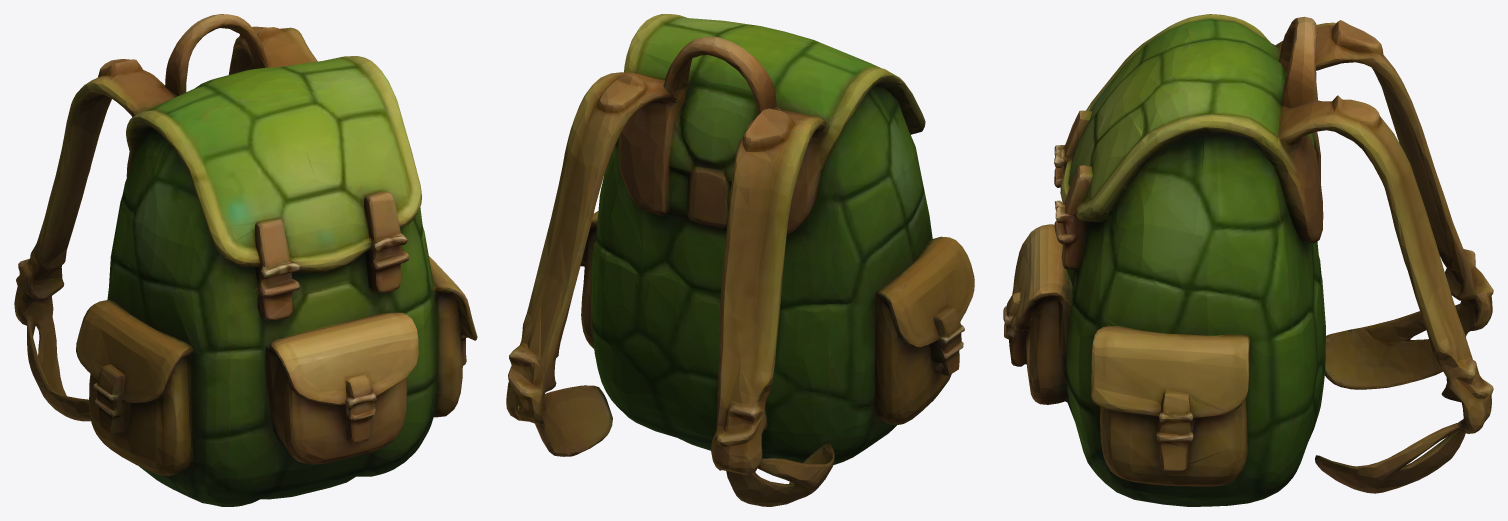
Rendered from turtle_shell_backpack.glb.
The picture shows the model from 3 angles, left to right: view 1: azimuth 30°, elevation 25°; view 2: azimuth 150°, elevation 25°; view 3: azimuth 270°, elevation 25°; orthographic projection. The views are drawn at different scales.
Visible parts, largest first — view 1: geometry_0; view 2: geometry_0; view 3: geometry_0.
Boxes of the visible parts, x1,y1,x2,y2 form: geometry_0: (14, 14, 477, 506); geometry_0: (506, 14, 974, 506); geometry_0: (1003, 14, 1493, 506).
Bounding box in the file's own units: 0.5132 × 0.59 × 0.5845.
Materials: 1 (1 with a texture image).
